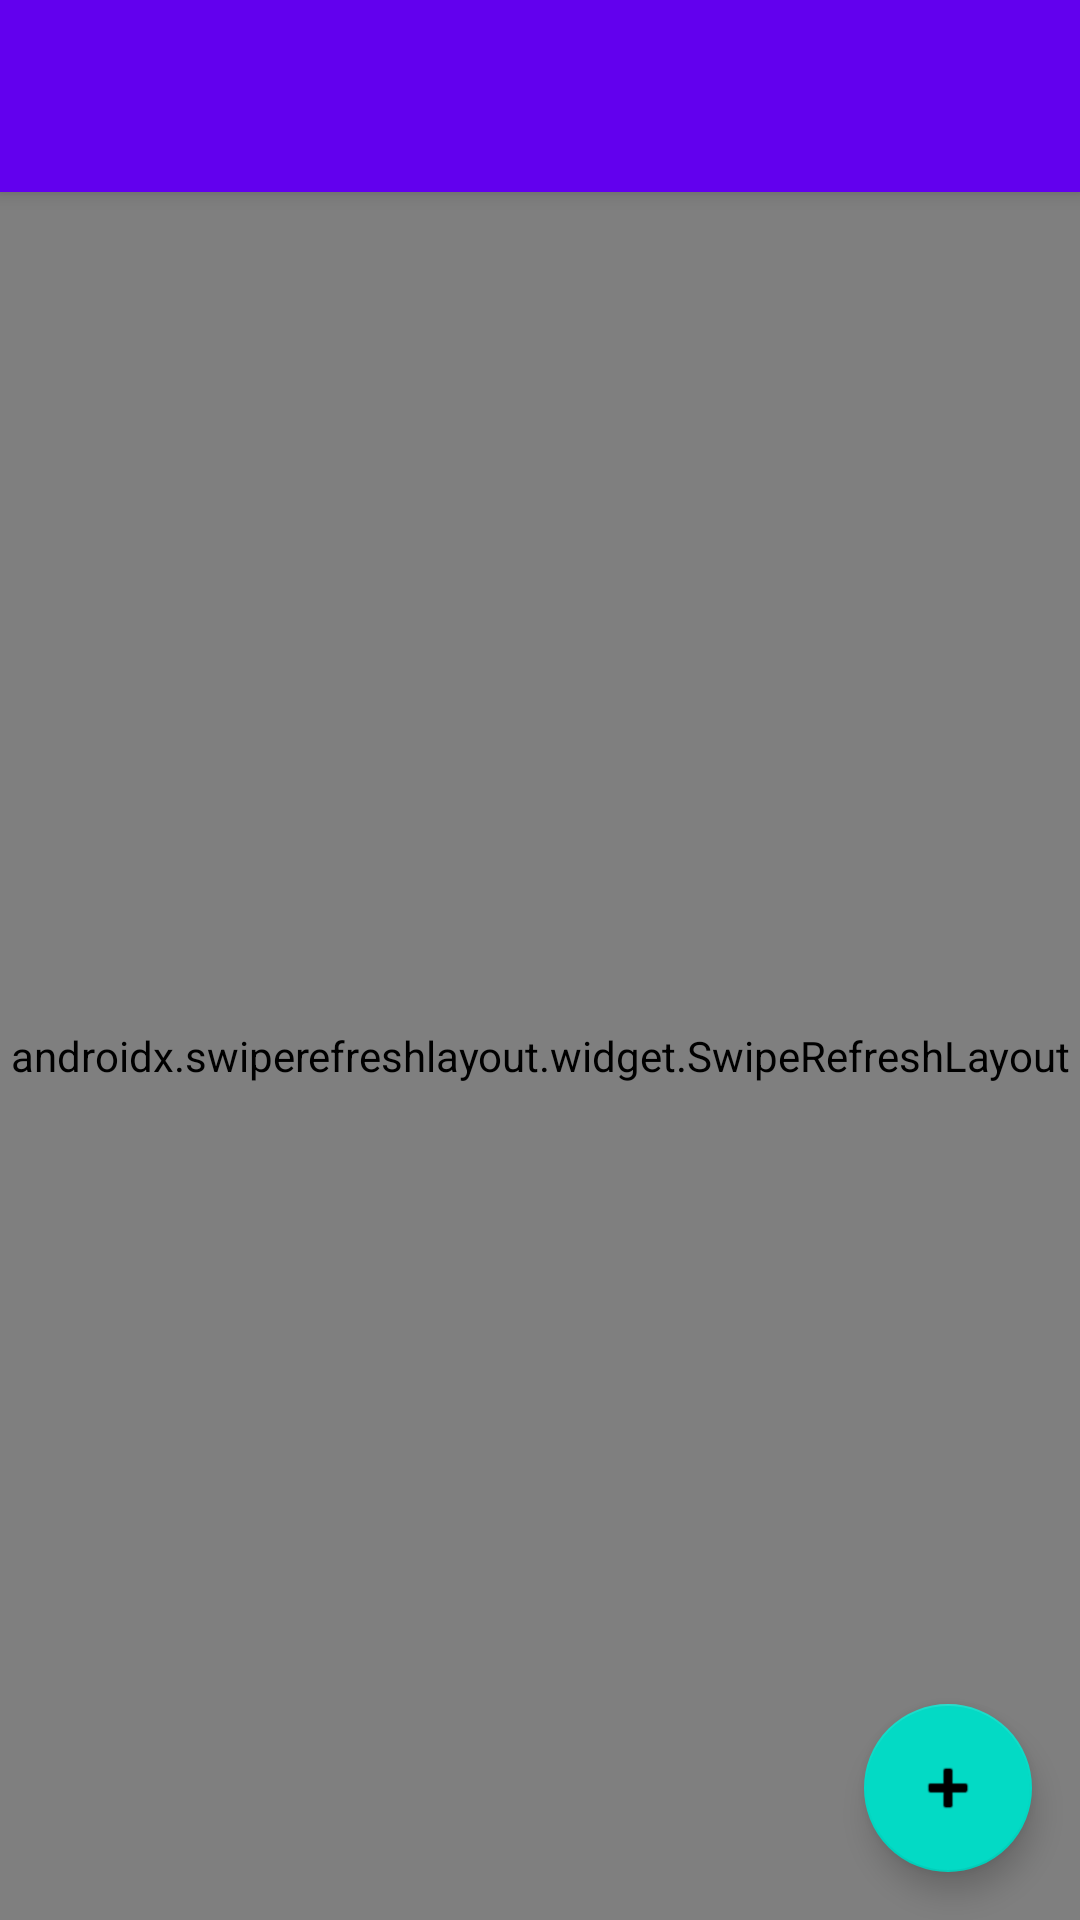

Named icons in this screenshot (1080 x 1920) and their centers, point (x, y):
Add Note: point (948, 1788)
